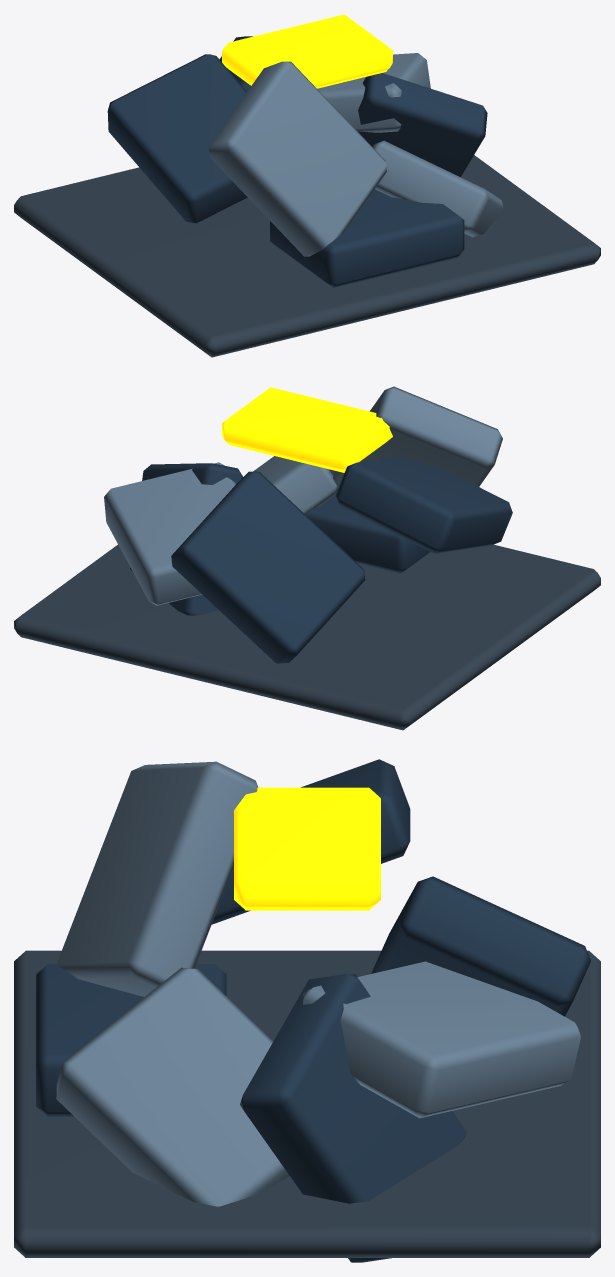
File: metal.glb
The picture shows the model from 3 angles, top to bottom: view 1: azimuth 30°, elevation 25°; view 2: azimuth 150°, elevation 25°; view 3: azimuth 270°, elevation 25°; orthographic projection. The views are drawn at different scales.
Parts seen in each view (by area): view 1: Salvage footing, Discarded machine plating.005, Discarded machine plating.002, Discarded machine plating, Discarded machine plating.006, Recoverable alloy, Discarded machine plating.003, Discarded machine plating.001; view 2: Salvage footing, Discarded machine plating.004, Discarded machine plating.002, Discarded machine plating.001, Recoverable alloy, Discarded machine plating.005, Discarded machine plating, Discarded machine plating.003, Discarded machine plating.006; view 3: Salvage footing, Discarded machine plating.003, Discarded machine plating.005, Discarded machine plating.001, Discarded machine plating.006, Recoverable alloy, Discarded machine plating.004, Discarded machine plating, Discarded machine plating.002.
Boxes of the visible parts, x1,y1,x2,y2 form: Salvage footing: (14,155,600,357); Discarded machine plating.005: (208,61,386,256); Discarded machine plating.002: (107,54,247,223); Discarded machine plating: (270,189,464,287); Discarded machine plating.006: (358,73,487,176); Recoverable alloy: (222,14,392,88); Discarded machine plating.003: (372,140,503,237); Discarded machine plating.001: (317,53,430,132); Salvage footing: (14,544,600,730); Discarded machine plating.004: (171,471,365,663); Discarded machine plating.002: (335,456,512,553); Discarded machine plating.001: (104,462,235,605); Recoverable alloy: (222,387,392,472); Discarded machine plating.005: (333,386,502,487); Discarded machine plating: (305,469,429,573); Discarded machine plating.003: (253,456,337,514); Discarded machine plating.006: (130,463,242,615); Salvage footing: (14,950,600,1257); Discarded machine plating.003: (56,967,289,1206); Discarded machine plating.005: (56,761,258,996); Discarded machine plating.001: (303,961,580,1118); Discarded machine plating.006: (240,974,466,1262); Recoverable alloy: (234,787,380,910); Discarded machine plating.004: (371,876,590,1016); Discarded machine plating: (36,964,226,1116); Discarded machine plating.002: (212,759,410,924).
Bounding box in the file's own units: 2.3 × 1.37 × 2.
